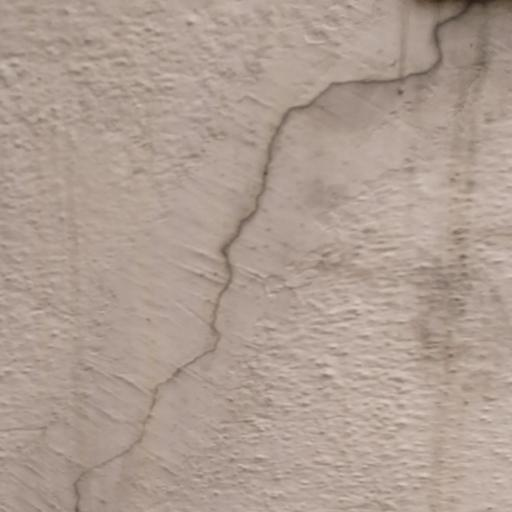minor_crack: (62, 0, 484, 512)
